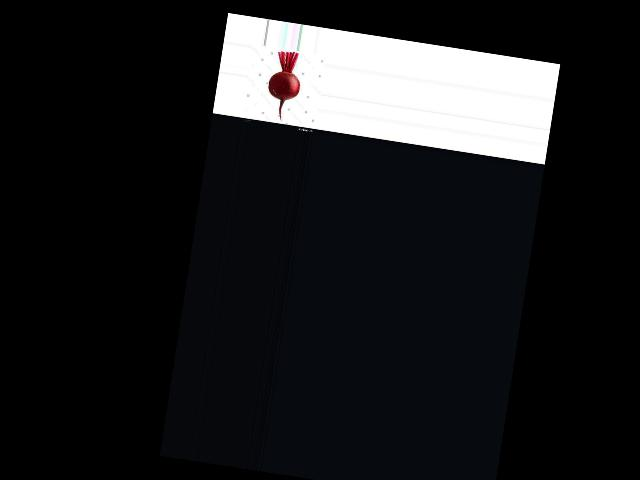beet: (263, 49, 304, 123)
